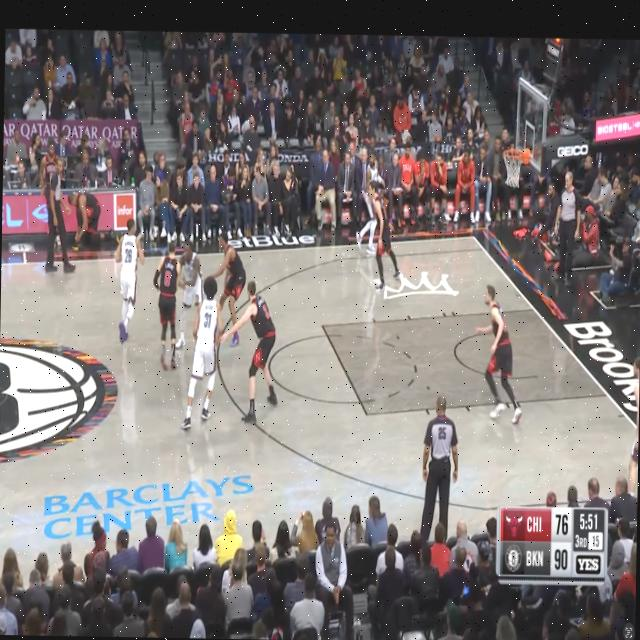no foul: (97, 210, 290, 436)
